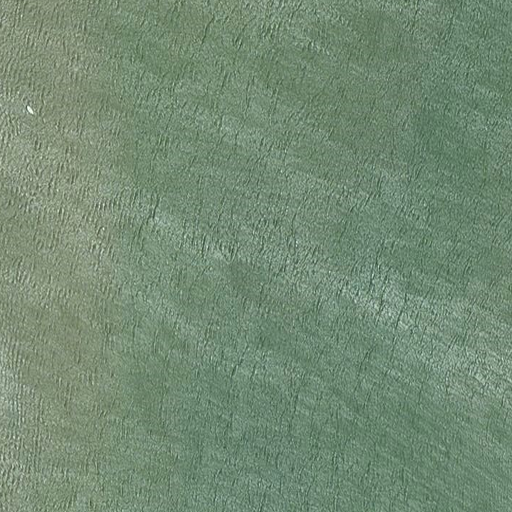ship: (24, 102, 37, 117)
